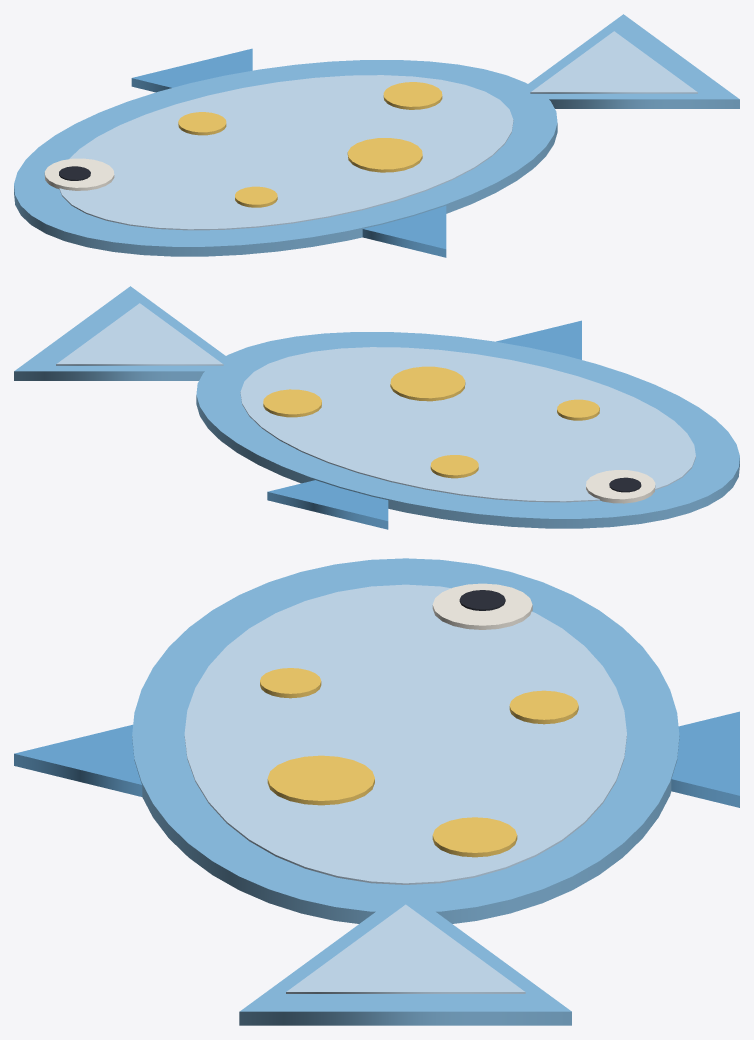
The model's file is rug-fish.glb.
The picture shows the model from 3 angles, top to bottom: view 1: azimuth 30°, elevation 25°; view 2: azimuth 150°, elevation 25°; view 3: azimuth 270°, elevation 25°; orthographic projection. The views are drawn at different scales.
Bounding box in the file's own units: 2.79 × 0.0625 × 1.89.
